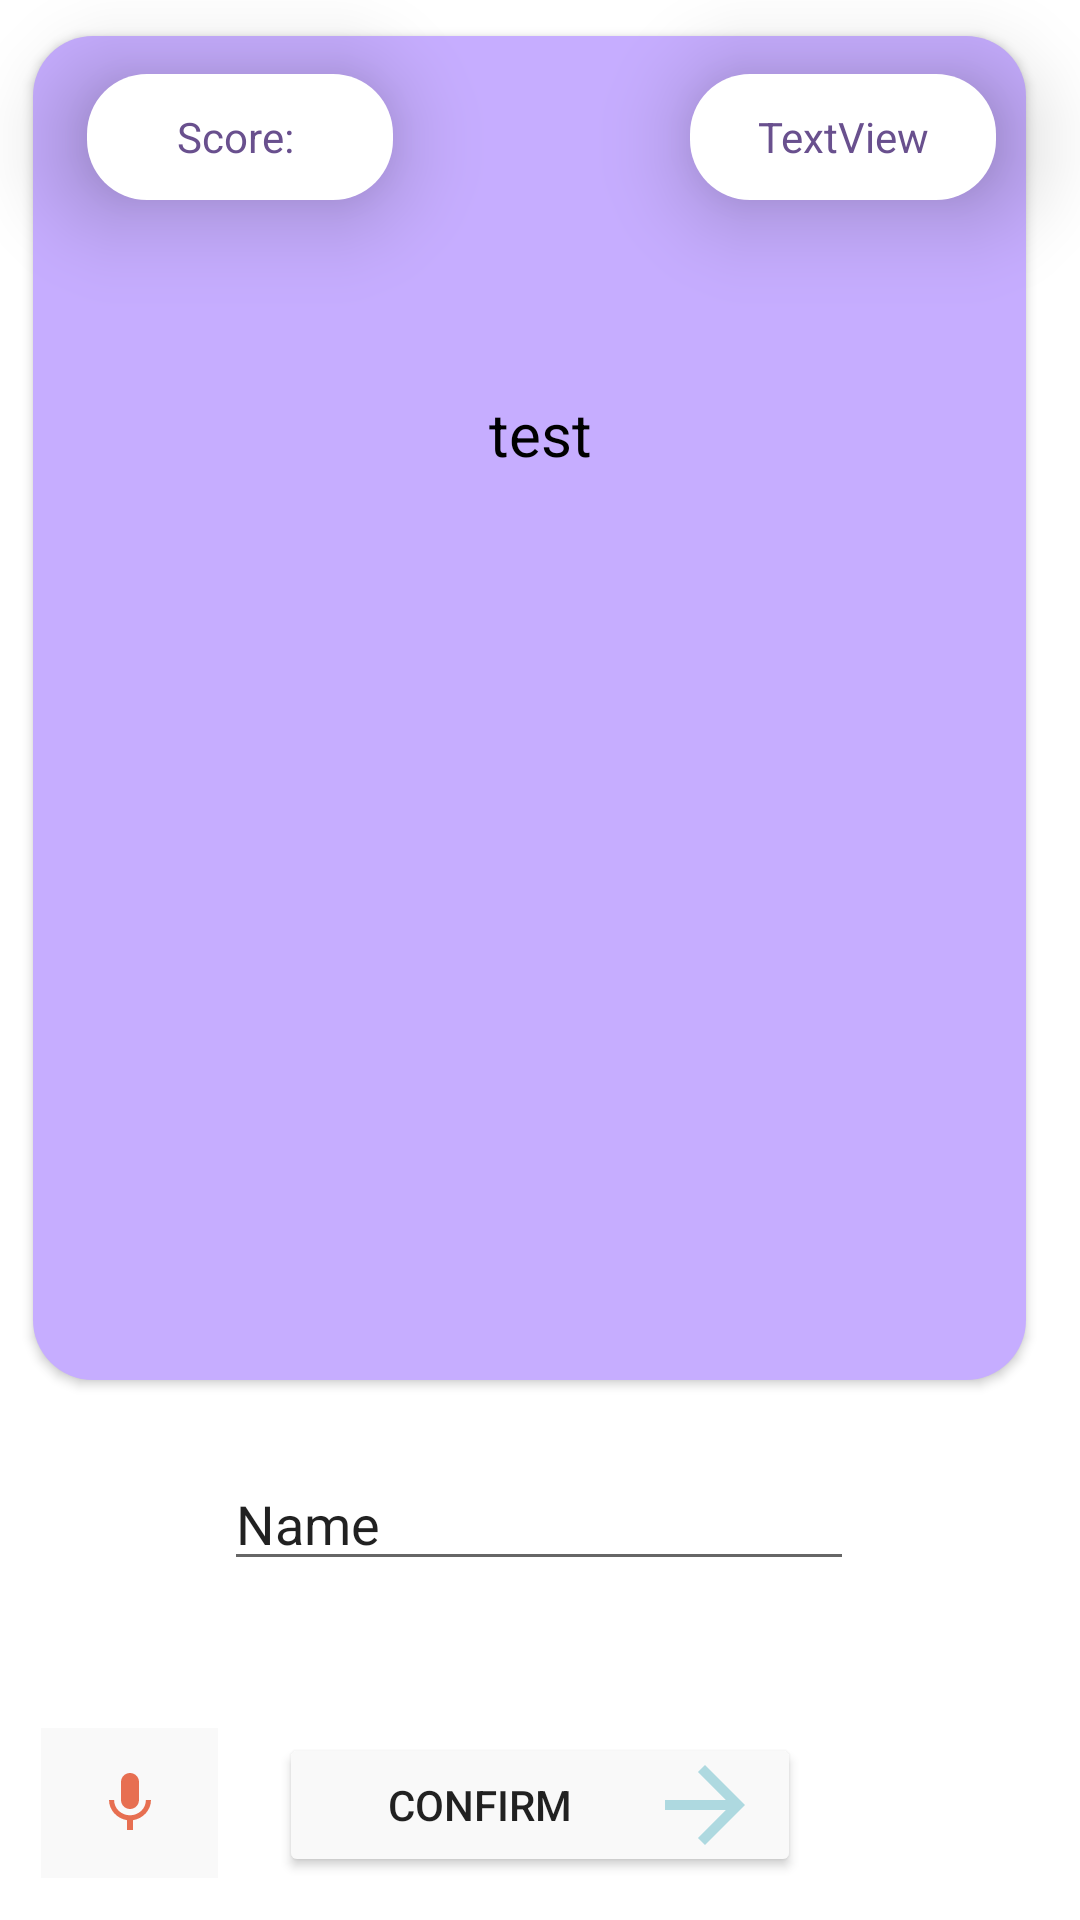

Screen size 1080 × 1920. Icon name, then its box in pixels as (x1,y1,x2,y2):
mic: (109,1773,151,1830)
